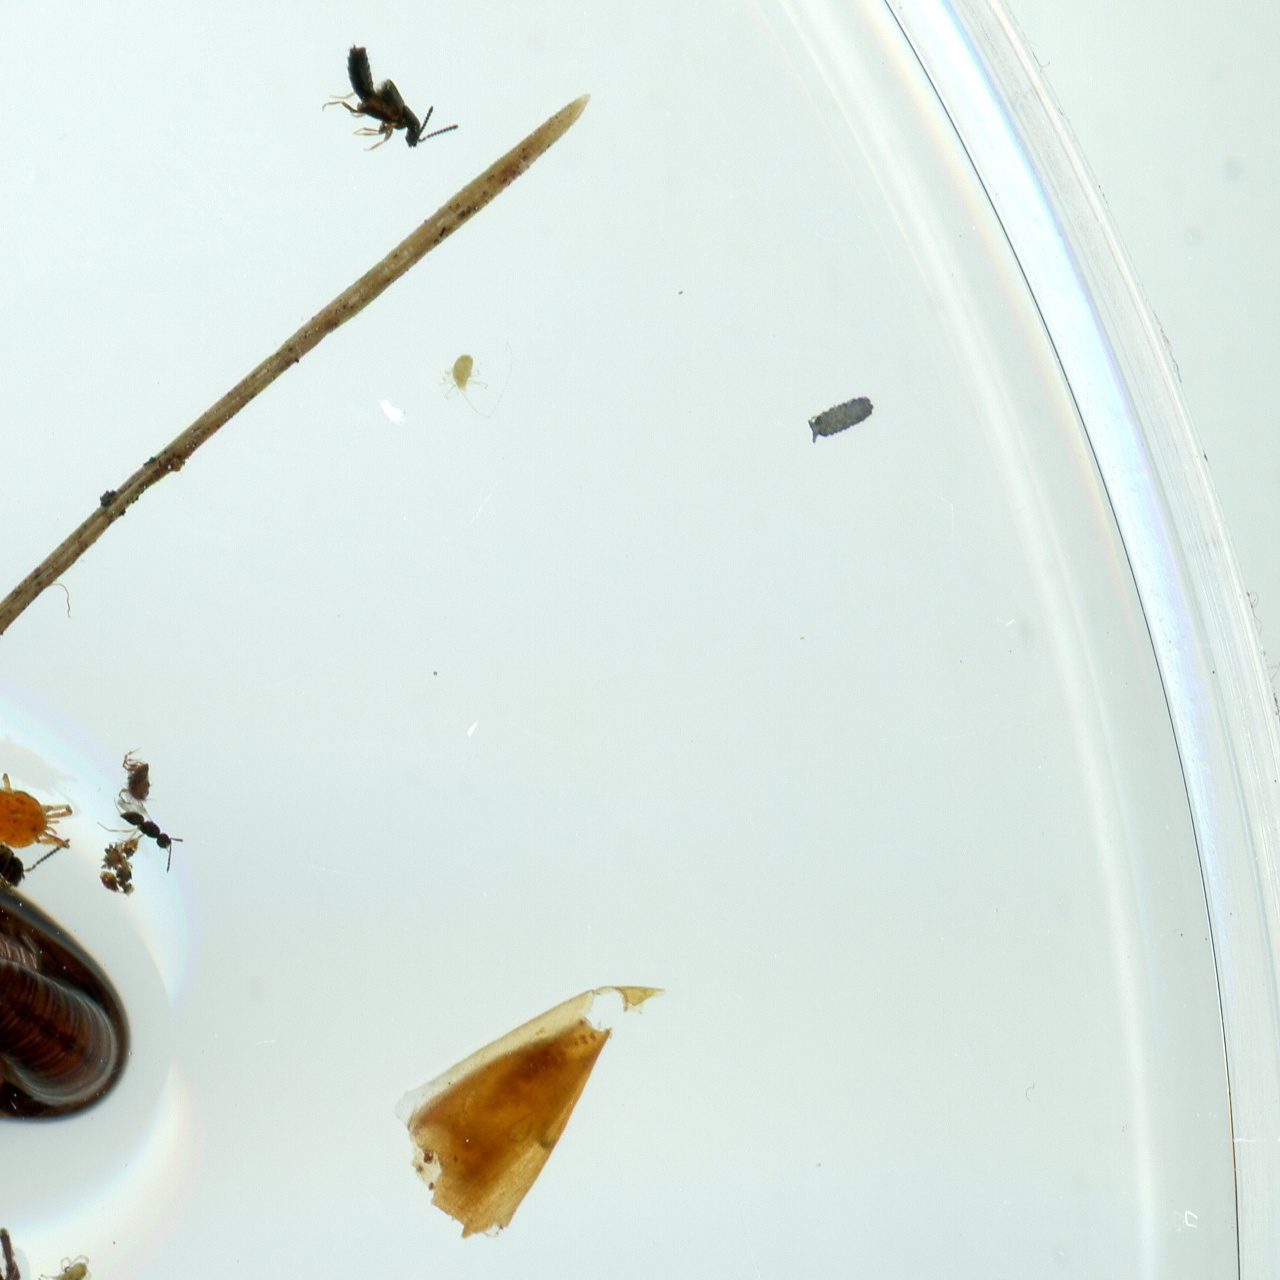arthropod: (0, 777, 126, 1280), (318, 42, 459, 152), (437, 340, 516, 419), (100, 798, 185, 871), (0, 770, 73, 850), (809, 396, 874, 446), (17, 1250, 93, 1280), (0, 821, 26, 905), (122, 745, 155, 795)
